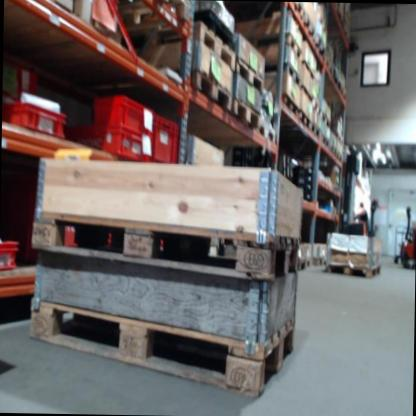pallet: (25, 295, 298, 401), (30, 204, 300, 280), (133, 21, 237, 71), (129, 68, 233, 115), (246, 33, 303, 63), (215, 99, 262, 134), (233, 58, 267, 95), (257, 61, 303, 88), (325, 260, 384, 280), (262, 94, 300, 119), (291, 256, 311, 278), (295, 110, 311, 131), (313, 253, 330, 268), (310, 127, 319, 142)
pallet_truck: (341, 150, 382, 241), (390, 198, 416, 272)
small_load_carrier: (56, 123, 153, 167), (92, 86, 152, 134), (2, 101, 68, 143), (148, 110, 182, 169), (0, 231, 22, 272)
